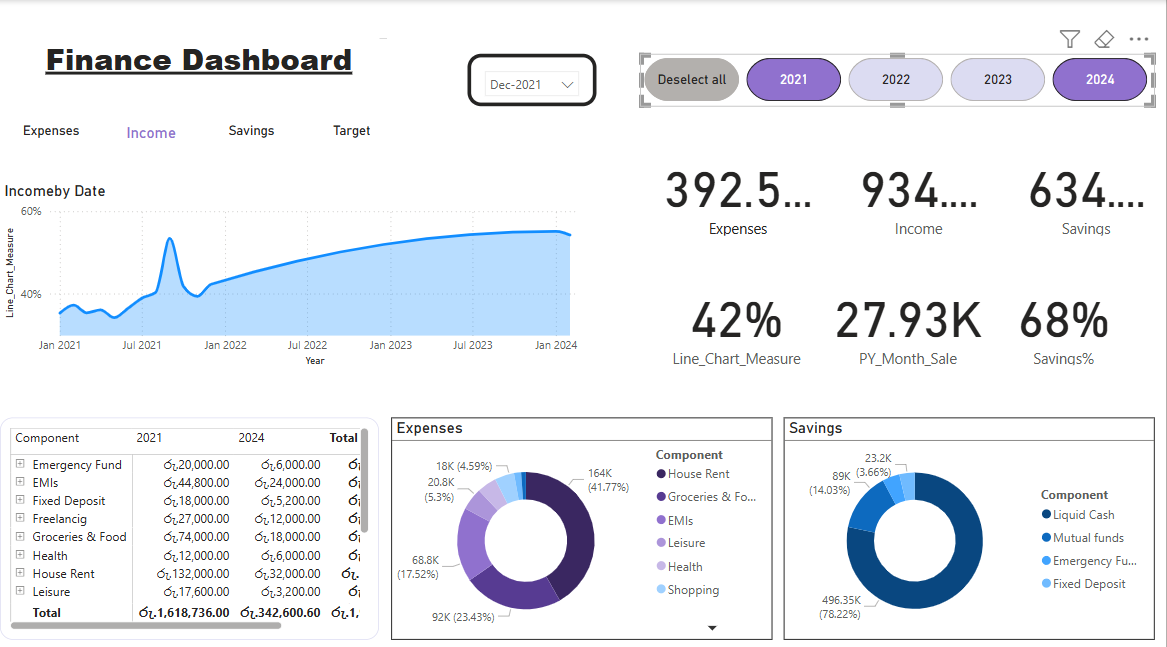

This screenshot's page, from the dashboard's own definition file:
{"tool":"powerbi","page":{"name":"Page 1","canvas":[1280,720],"ordinal":0},"visuals":[{"type":"shape","box":[1117,330.7,138.6,102.9],"z":0},{"type":"shape","box":[933.1,321.1,172.9,102.9],"z":1000},{"type":"shape","box":[1117,209.9,138.6,102.9],"z":2000},{"type":"shape","box":[933.1,209.9,138.6,102.9],"z":3000},{"type":"card","fields":{"Values":["FinData.Expenses"]},"box":[719,161.9,182.5,101.5],"z":4000},{"type":"card","fields":{"Values":["FinData.Income"]},"box":[924.9,161.9,167.4,101.5],"z":5000},{"type":"card","fields":{"Values":["FinData.Savings"]},"box":[1117,161.9,150.9,101.5],"z":6000},{"type":"card","fields":{"Values":["FinData.Savings%"]},"box":[1092.3,303.3,150.9,102.9],"z":7000},{"type":"advancedSlicerVisual","fields":{"Values":["FinData.Year"]},"box":[702.6,59,565.4,57.6],"z":8000},{"type":"donutChart","title":"Savings ","fields":{"Category":["FinData.Component"],"Y":["FinData.Savings"]},"box":[860.4,458.3,407.5,244.3],"z":9000},{"type":"donutChart","title":"Expenses","fields":{"Category":["FinData.Component"],"Y":["FinData.Expenses"]},"box":[429.5,458.3,418.5,244.3],"z":10000},{"type":"pivotTable","fields":{"Values":["FinData.Total_value"],"Rows":["FinData.Component","FinData.Type"],"Columns":["FinData.Year"]},"box":[0,458.3,415.8,244.3],"z":11000},{"type":"lineChart","fields":{"Category":["FinData.Date.Variation.Date Hierarchy.Year","FinData.Date.Variation.Date Hierarchy.Quarter","FinData.Date.Variation.Date Hierarchy.Month","FinData.Date.Variation.Date Hierarchy.Day"],"Y":["FinData.Line_Chart_Measure"]},"box":[0,199,654.5,208.6],"z":12000},{"type":"advancedSlicerVisual","fields":{"Values":["Line_Selection_Table.Type"]},"box":[0,116.6,443.2,46.7],"z":13000},{"type":"card","fields":{"Values":["FinData.Line_Chart_Measure"]},"box":[719,303.3,179.8,104.3],"z":14000},{"type":"textbox","box":[15.1,37,414.4,50.8],"z":15000},{"type":"slicer","fields":{"Values":["Selected_Date.Month_Yr"]},"box":[513.2,59,141.3,57.6],"z":16000},{"type":"card","fields":{"Values":["FinData.PY_Month_Sale"]},"box":[901.5,303.3,190.7,104.3],"z":17000},{"type":"shape","box":[403.4,42.5,39.8,45.3],"z":17001}]}

Visuals, with their boxes in screenshot pixels (x1, y1, x2, y2), scaled from the page's 1280x720 canvas onto the 1167x647 screenshot:
shape: bbox=[1018, 297, 1145, 390]
shape: bbox=[851, 289, 1008, 381]
shape: bbox=[1018, 189, 1145, 281]
shape: bbox=[851, 189, 977, 281]
card - FinData.Expenses: bbox=[656, 145, 822, 237]
card - FinData.Income: bbox=[843, 145, 996, 237]
card - FinData.Savings: bbox=[1018, 145, 1156, 237]
card - FinData.Savings%: bbox=[996, 273, 1133, 365]
advancedSlicerVisual - FinData.Year: bbox=[641, 53, 1156, 105]
"Savings " donutChart: bbox=[784, 412, 1156, 631]
"Expenses" donutChart: bbox=[392, 412, 773, 631]
pivotTable - FinData.Total_value x FinData.Component: bbox=[0, 412, 379, 631]
lineChart - FinData.Date.Variation.Date Hierarchy.Year x FinData.Date.Variation.Date Hierarchy.Quarter: bbox=[0, 179, 597, 366]
advancedSlicerVisual - Line_Selection_Table.Type: bbox=[0, 105, 404, 147]
card - FinData.Line_Chart_Measure: bbox=[656, 273, 819, 366]
textbox: bbox=[14, 33, 392, 79]
slicer - Selected_Date.Month_Yr: bbox=[468, 53, 597, 105]
card - FinData.PY_Month_Sale: bbox=[822, 273, 996, 366]
shape: bbox=[368, 38, 404, 79]
